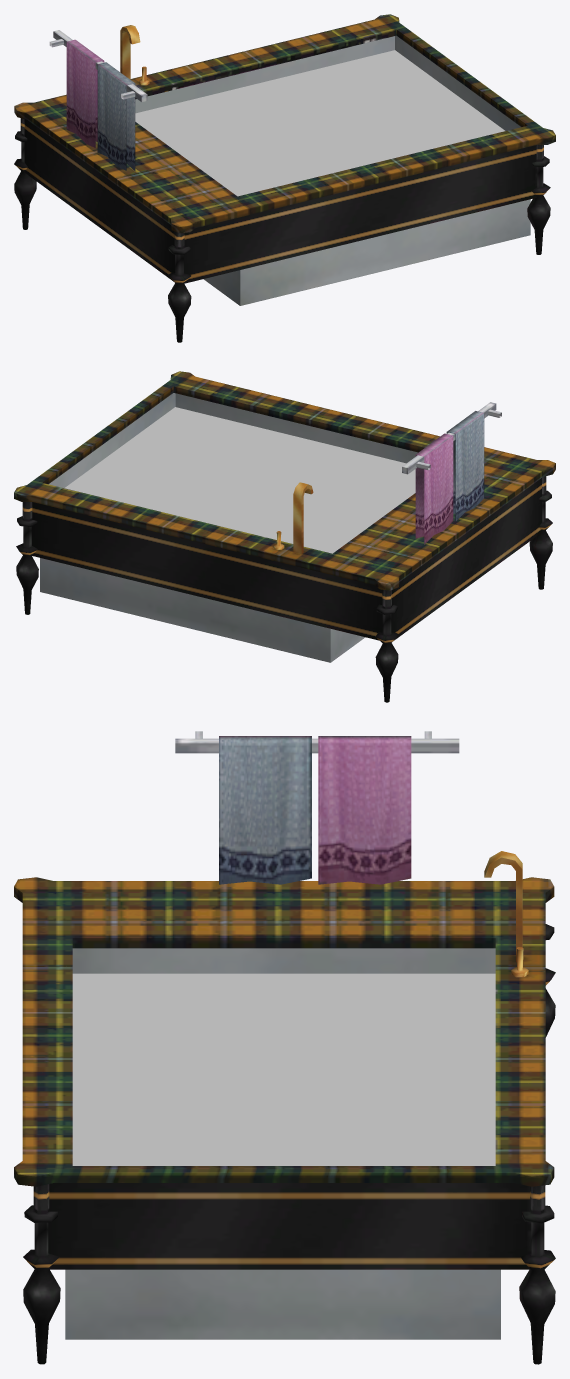
File: furni_0200325_03.FBX
The picture shows the model from 3 angles, top to bottom: view 1: azimuth 30°, elevation 25°; view 2: azimuth 150°, elevation 25°; view 3: azimuth 270°, elevation 25°; orthographic projection. The views are drawn at different scales.
Visible parts, largest first — view 1: furni_0200325_03; view 2: furni_0200325_03; view 3: furni_0200325_03.
Boxes of the visible parts, box(x1,y1,x2,y2) form: furni_0200325_03: box(14, 14, 555, 342); furni_0200325_03: box(14, 371, 555, 702); furni_0200325_03: box(14, 731, 555, 1364).
Size of the model in its own units: 160 by 86.2 by 122.
